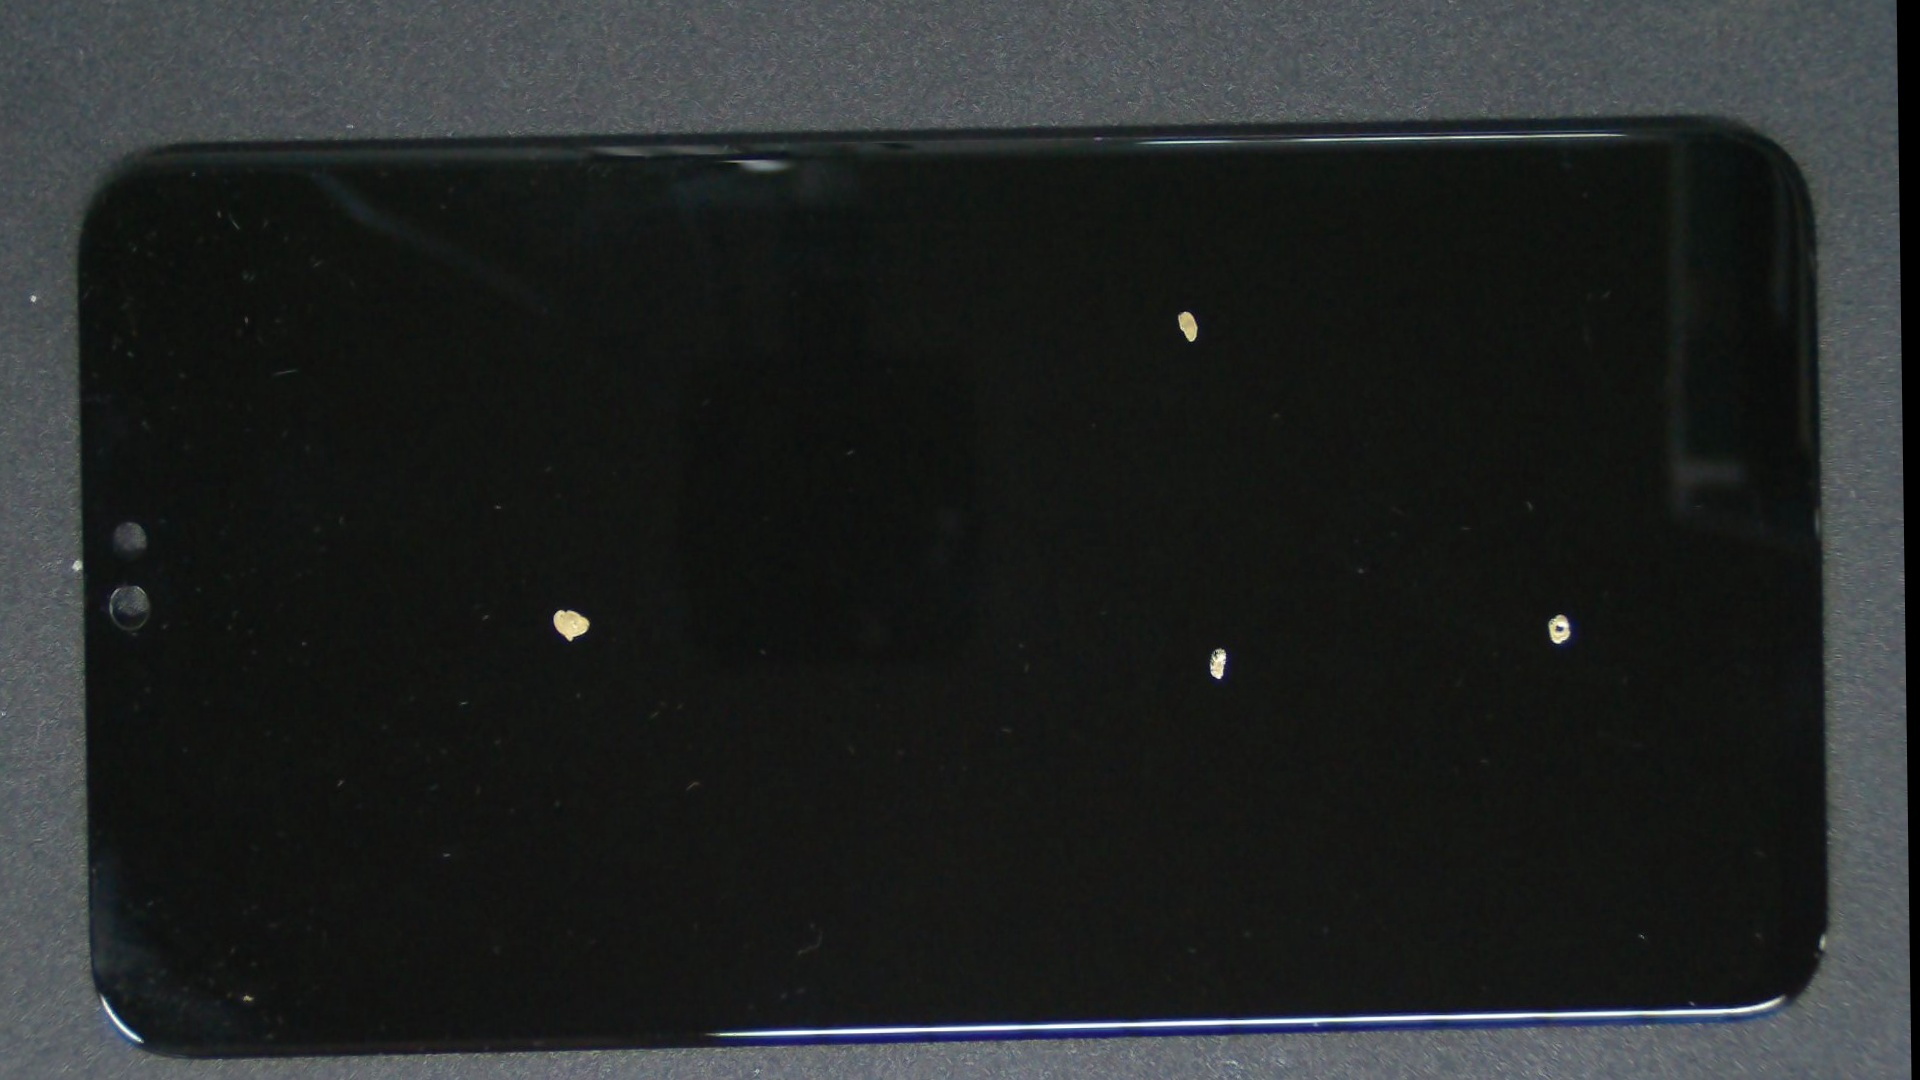oil: (583, 297, 1859, 996), (753, 281, 1909, 951), (564, 128, 1807, 492), (252, 285, 862, 932)
